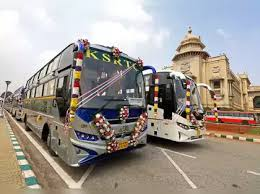bus: (24, 41, 149, 168), (139, 68, 216, 145)
